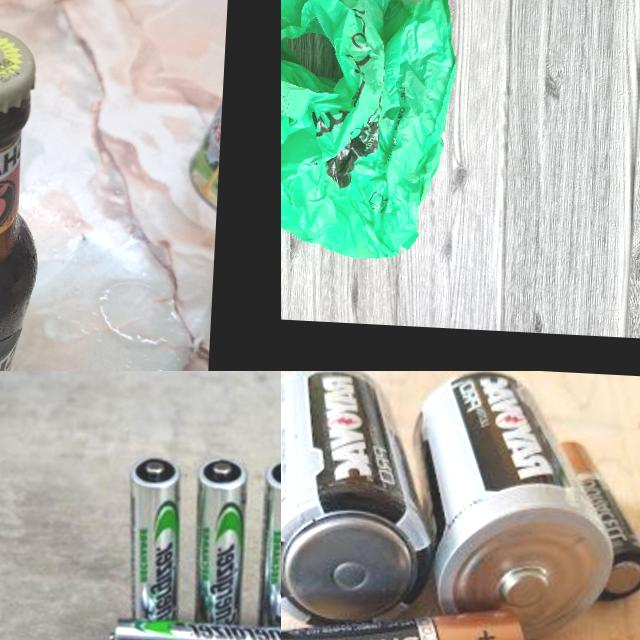bateria: (404, 371, 618, 640), (281, 371, 440, 633), (549, 439, 640, 602), (122, 454, 188, 624), (190, 457, 250, 626), (281, 600, 528, 640), (254, 457, 281, 632), (100, 618, 281, 640)
garrafa de vidro: (0, 22, 54, 371)
sacola plástica: (281, 0, 465, 267)
